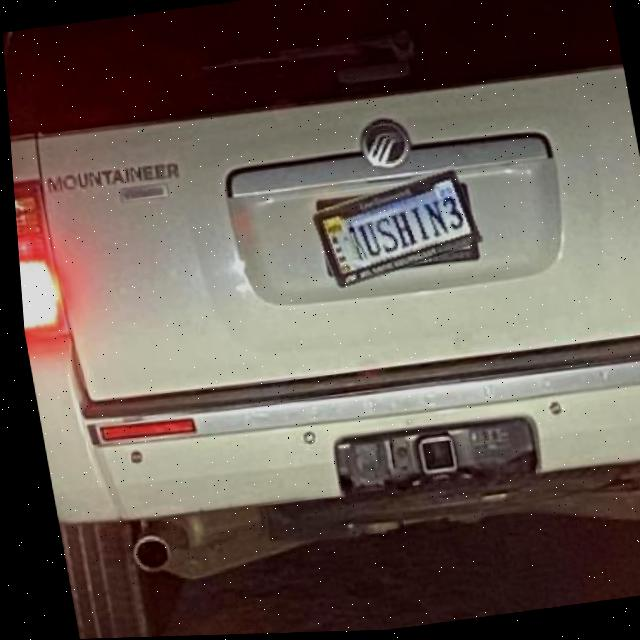LicensePlate: (306, 170, 478, 290)
